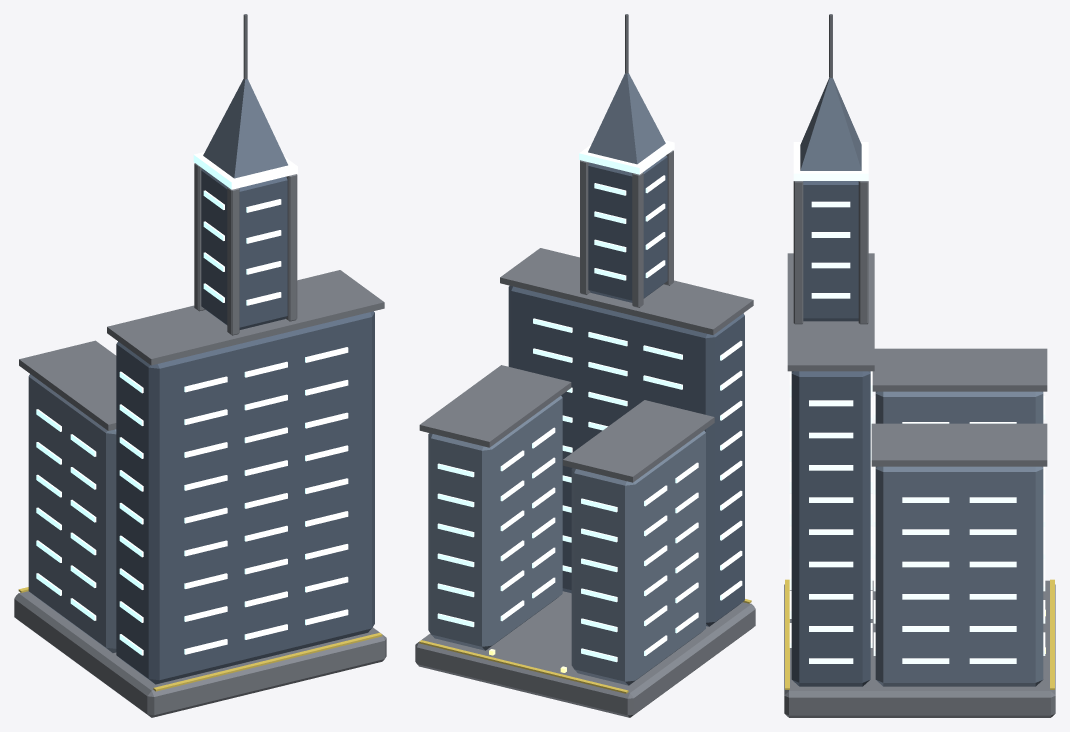
File: zone_high_3.glb
3 renders of one model, left to right at view 1: azimuth 30°, elevation 25°; view 2: azimuth 150°, elevation 25°; view 3: azimuth 270°, elevation 25°, orthographic. The views are drawn at different scales.
Parts seen in each view (by area): view 1: zone_high_3, detail; view 2: zone_high_3, detail; view 3: zone_high_3, detail.
Boxes of the visible parts, x1,y1,x2,y2 form: zone_high_3: (14, 79, 386, 717); detail: (18, 14, 382, 691); zone_high_3: (415, 73, 755, 717); detail: (419, 14, 751, 693); zone_high_3: (784, 77, 1055, 717); detail: (785, 14, 1054, 689).
Bounding box in the file's own units: 27.5 × 72.38 × 27.5.
